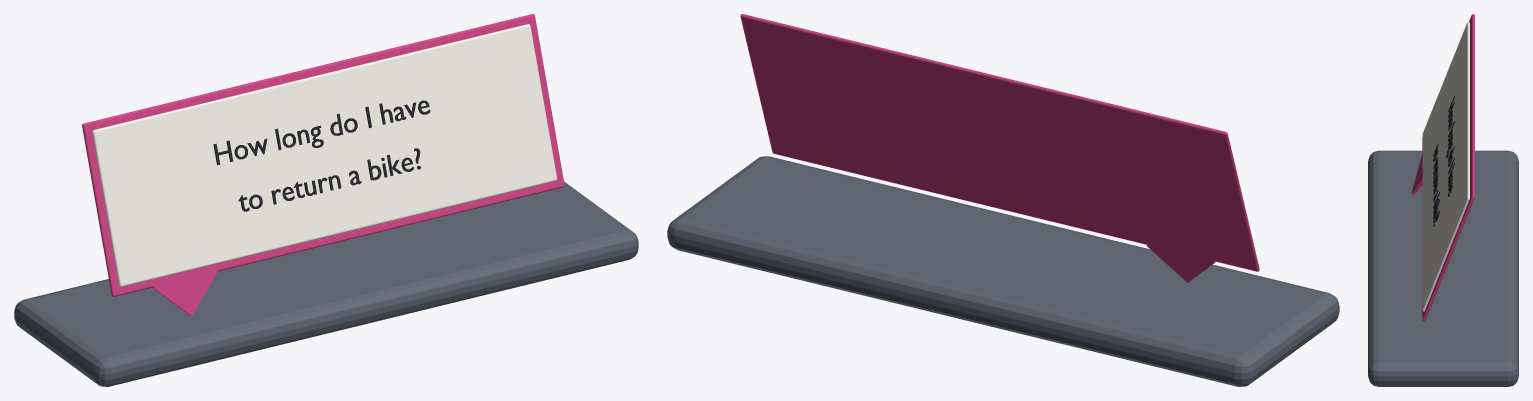
File: question.glb
3 views of the same model, side by side, from view 1: azimuth 30°, elevation 25°; view 2: azimuth 150°, elevation 25°; view 3: azimuth 270°, elevation 25° (orthographic). The views are drawn at different scales.
Visible parts, largest first — view 1: face, stand, rim, line1; view 2: stand, rim; view 3: stand, face, rim, line1.
Boxes of the visible parts, x1=… form: face: x1=92, y1=24, x2=557, y2=286; stand: x1=14, y1=181, x2=638, y2=386; rim: x1=82, y1=14, x2=564, y2=315; line1: x1=213, y1=100, x2=430, y2=211; stand: x1=667, y1=156, x2=1339, y2=386; rim: x1=740, y1=14, x2=1259, y2=282; stand: x1=1368, y1=150, x2=1518, y2=386; face: x1=1422, y1=22, x2=1469, y2=311; rim: x1=1411, y1=14, x2=1474, y2=321; line1: x1=1433, y1=96, x2=1454, y2=226.
Size of the model in its own units: 0.6 by 0.2237 by 0.174.
